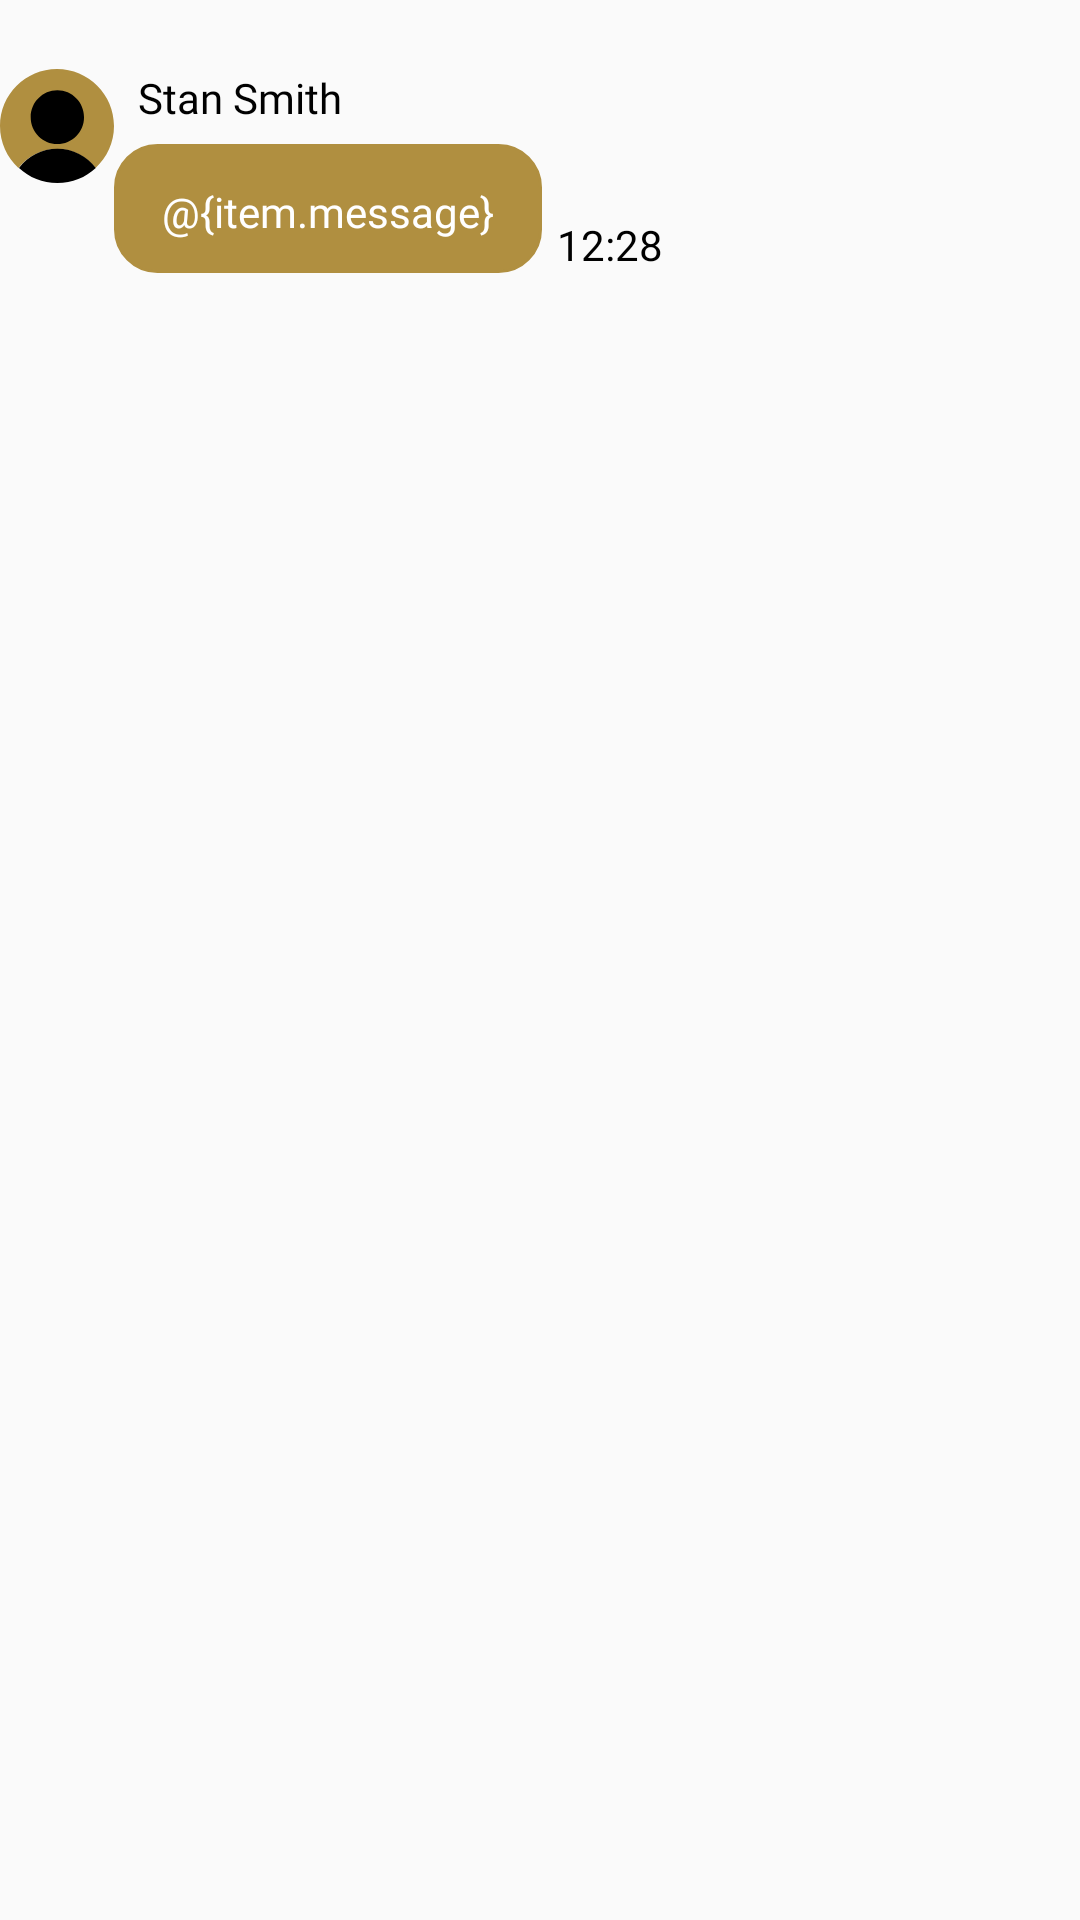

Where icons sit on this 1080x1920 app screen, as (x1, y1, x2, y2):
userprofile: (0, 69, 114, 183)
